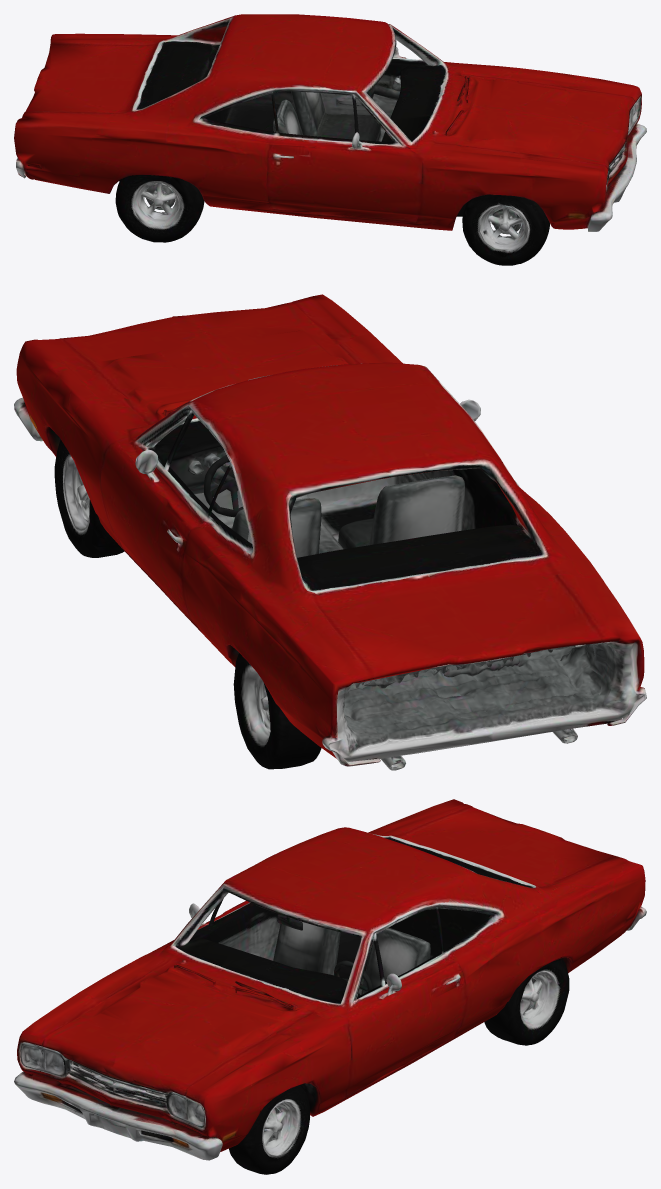
Rendered from muscle.glb.
3 renders of one model, top to bottom at view 1: azimuth 30°, elevation 25°; view 2: azimuth 150°, elevation 25°; view 3: azimuth 270°, elevation 25°, orthographic. The views are drawn at different scales.
Parts seen in each view (by area): view 1: tripo_node_835131fe-f07b-4675-826a-f4d0bd042cbb; view 2: tripo_node_835131fe-f07b-4675-826a-f4d0bd042cbb; view 3: tripo_node_835131fe-f07b-4675-826a-f4d0bd042cbb.
Boxes of the visible parts, bbox=[...] form: tripo_node_835131fe-f07b-4675-826a-f4d0bd042cbb: bbox=[14, 14, 646, 265]; tripo_node_835131fe-f07b-4675-826a-f4d0bd042cbb: bbox=[14, 294, 646, 770]; tripo_node_835131fe-f07b-4675-826a-f4d0bd042cbb: bbox=[14, 799, 646, 1174].
Size of the model in its own units: 0.971 by 0.2919 by 0.8907.
1 material, 1 textured.
